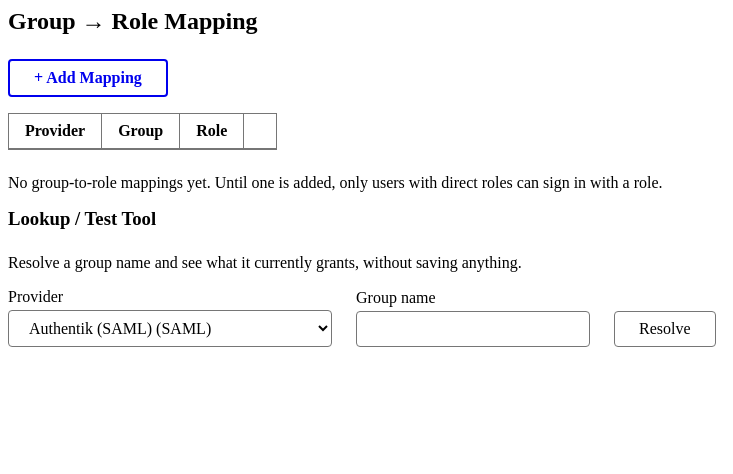
Test case: GroupRoleMapping.vue › looks up a SAML group by its claim value and offers no script for it
The width and height of the screenshot is (733, 474).
Select "Authentik (SAML) (SAML)" in the dropdown labelled "Provider": x=170, y=328 [8,310,332,347]
Select "Authentik (SAML) (SAML)" in the dropdown labelled "Provider": x=170, y=328 [8,310,332,347]
In the field labelled "Group name": x=473, y=329 [356,311,590,347], type "BlueTrack-Admin"
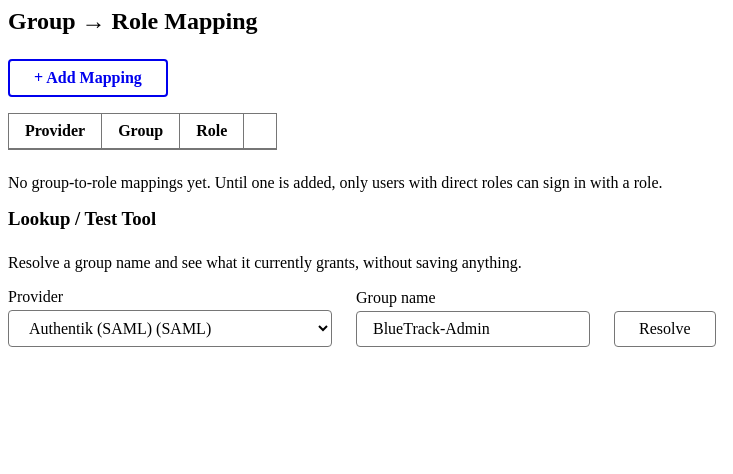
Submit the form, box [8,288,716,347]
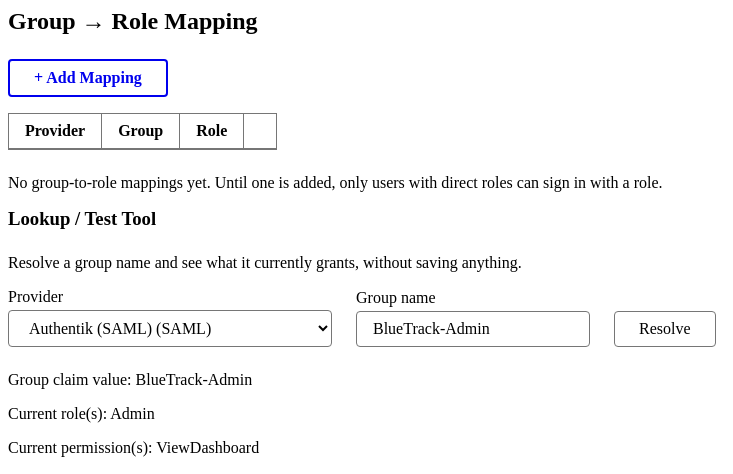
Expected: the text "Group claim value: BlueTrack-Admin" is shown, [8,371,252,388]
Expected: the text "Current role(s): Admin" is shown, [8,405,155,422]
